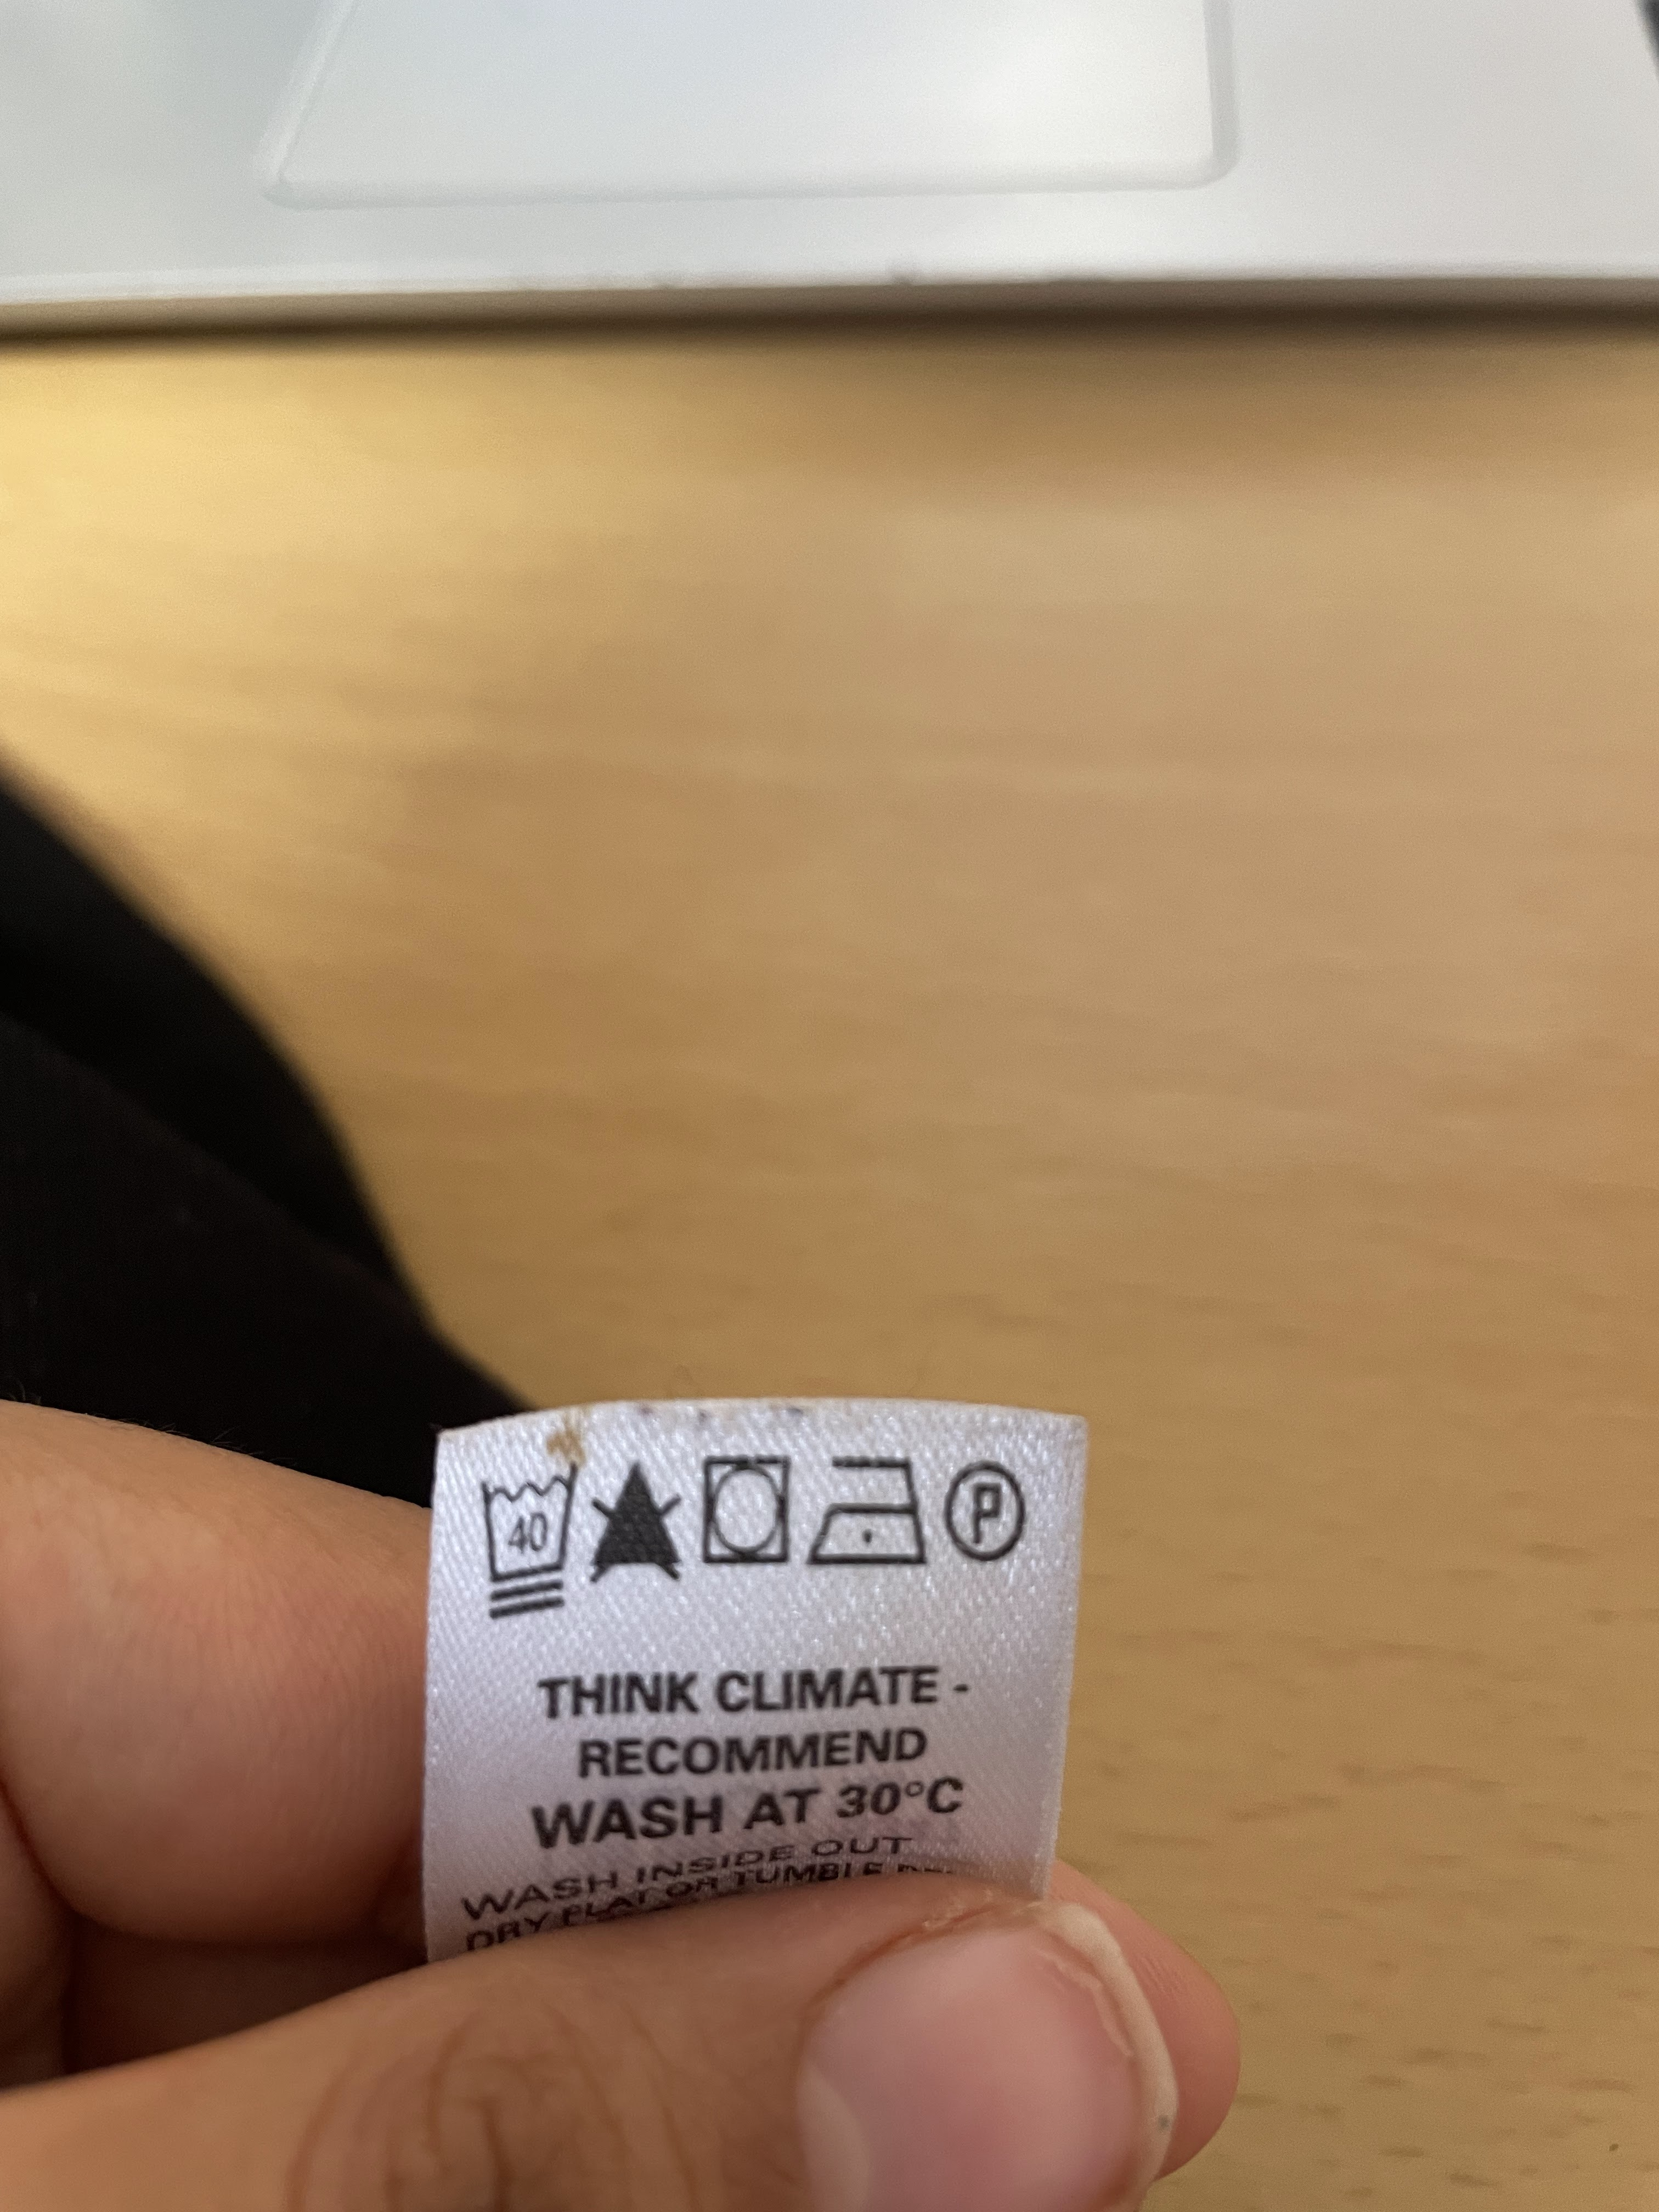do not bleach: (598, 1440, 699, 1597)
dry clean: (925, 1432, 1051, 1604)
iron low temp: (795, 1430, 938, 1608)
tumble dry: (699, 1426, 826, 1609)
wash at or below 40: (483, 1474, 582, 1583)
